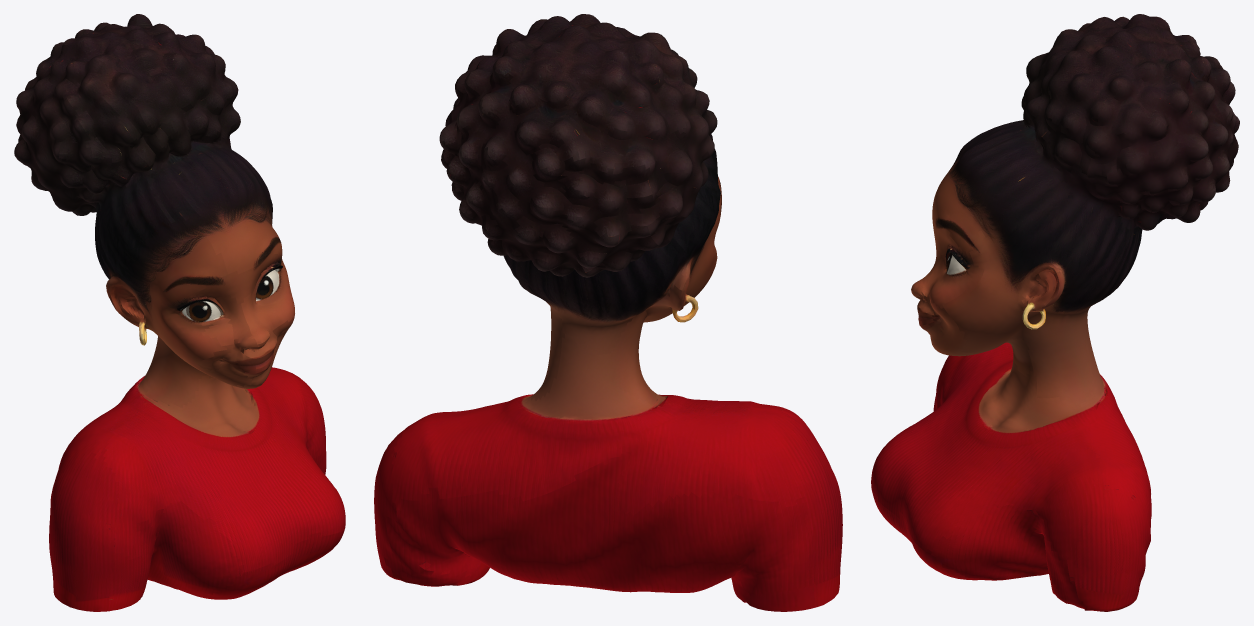
Rendered from blockout_bust.glb.
3 renders of one model, left to right at view 1: azimuth 30°, elevation 25°; view 2: azimuth 150°, elevation 25°; view 3: azimuth 270°, elevation 25°, orthographic. The views are drawn at different scales.
Parts seen in each view (by area): view 1: Mesh_0; view 2: Mesh_0; view 3: Mesh_0.
Part boxes in pixels (box(x1,y1,x2,y2)): Mesh_0: box(14, 14, 345, 611); Mesh_0: box(374, 14, 842, 611); Mesh_0: box(871, 14, 1239, 611).
Size of the model in its own units: 1.29 by 1.89 by 1.27.
Materials: 1 (1 with a texture image).
